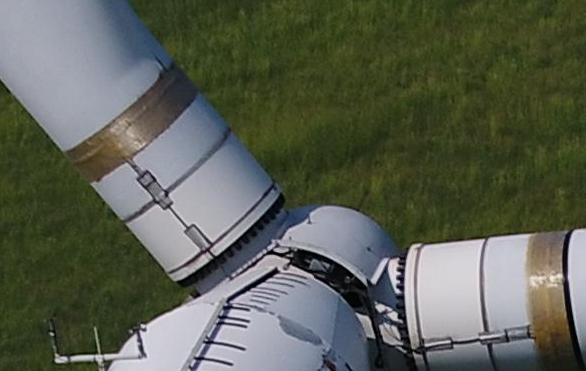damage: (323, 359, 335, 371), (345, 361, 352, 371)
